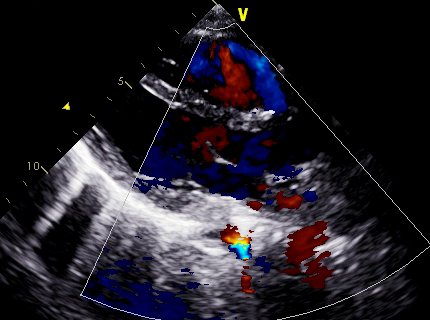AR: (174, 110, 279, 168)
